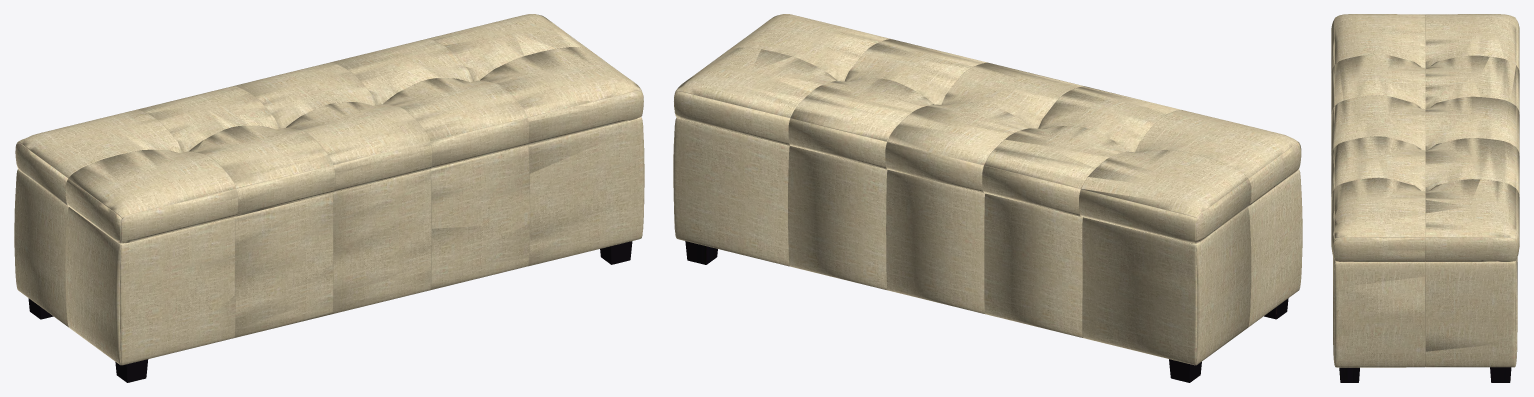
Rendered from B07H2HGZLK.glb.
The picture shows the model from 3 angles, left to right: view 1: azimuth 30°, elevation 25°; view 2: azimuth 150°, elevation 25°; view 3: azimuth 270°, elevation 25°; orthographic projection. The views are drawn at different scales.
Visible parts, largest first — view 1: B07H2HGZLK; view 2: B07H2HGZLK; view 3: B07H2HGZLK.
Part boxes in pixels (box(x1,y1,x2,y2)): B07H2HGZLK: box(14, 14, 644, 382); B07H2HGZLK: box(673, 14, 1302, 382); B07H2HGZLK: box(1331, 14, 1519, 382).
Bounding box in the file's own units: 1.22 × 0.4063 × 0.4324.
Materials: 1 (1 with a texture image).
